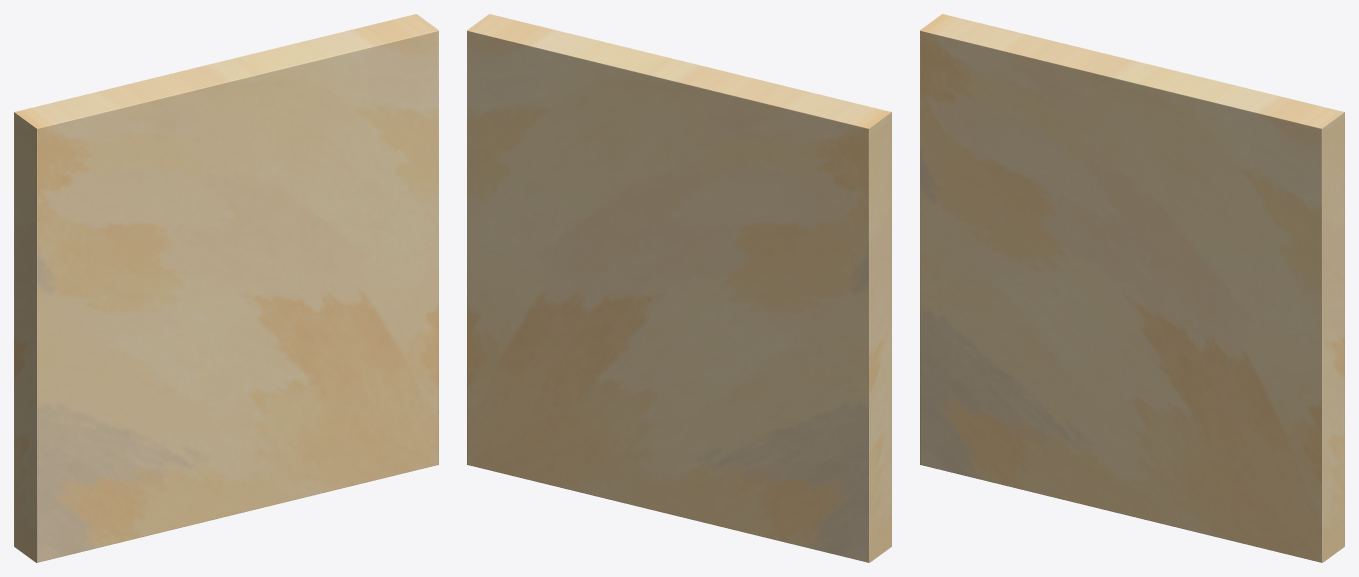
Rendered from CM_FacadeBay01_Plain_3m.fbx.
3 renders of one model, left to right at view 1: azimuth 30°, elevation 25°; view 2: azimuth 150°, elevation 25°; view 3: azimuth 330°, elevation 25°, orthographic.
Parts seen in each view (by area): view 1: CM_FacadeBay01_Plain_3m_Plaster; view 2: CM_FacadeBay01_Plain_3m_Plaster; view 3: CM_FacadeBay01_Plain_3m_Plaster.
Boxes of the visible parts, bbox=[...] form: CM_FacadeBay01_Plain_3m_Plaster: bbox=[14, 14, 438, 562]; CM_FacadeBay01_Plain_3m_Plaster: bbox=[467, 14, 891, 562]; CM_FacadeBay01_Plain_3m_Plaster: bbox=[920, 14, 1344, 562].
Size of the model in its own units: 2.82 by 2.91 by 0.28.
